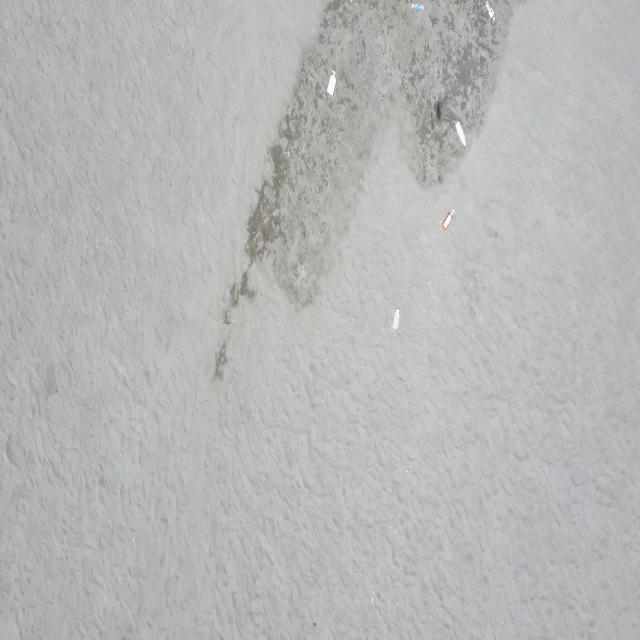Garbage: (440, 208, 453, 230), (484, 0, 495, 22), (455, 120, 464, 145), (327, 70, 335, 95), (392, 308, 399, 329), (411, 3, 423, 12), (435, 100, 440, 119)
